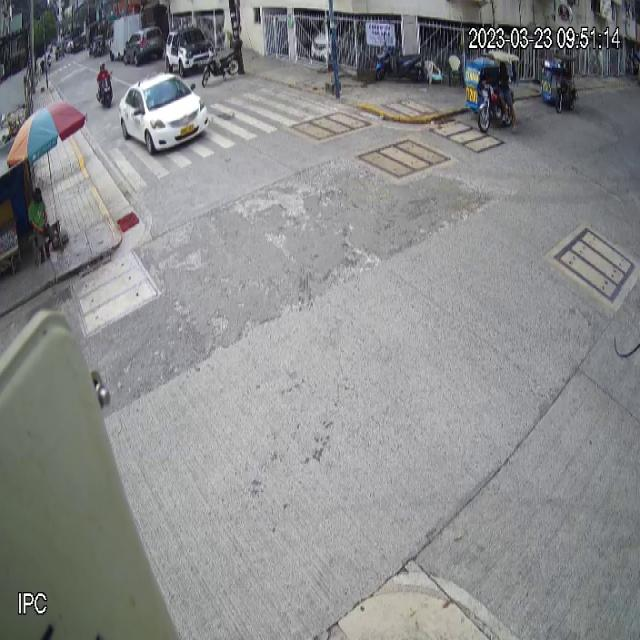Car: (119, 72, 210, 157)
Motorcycle: (372, 38, 426, 84)
Tricycle: (464, 50, 520, 134)
